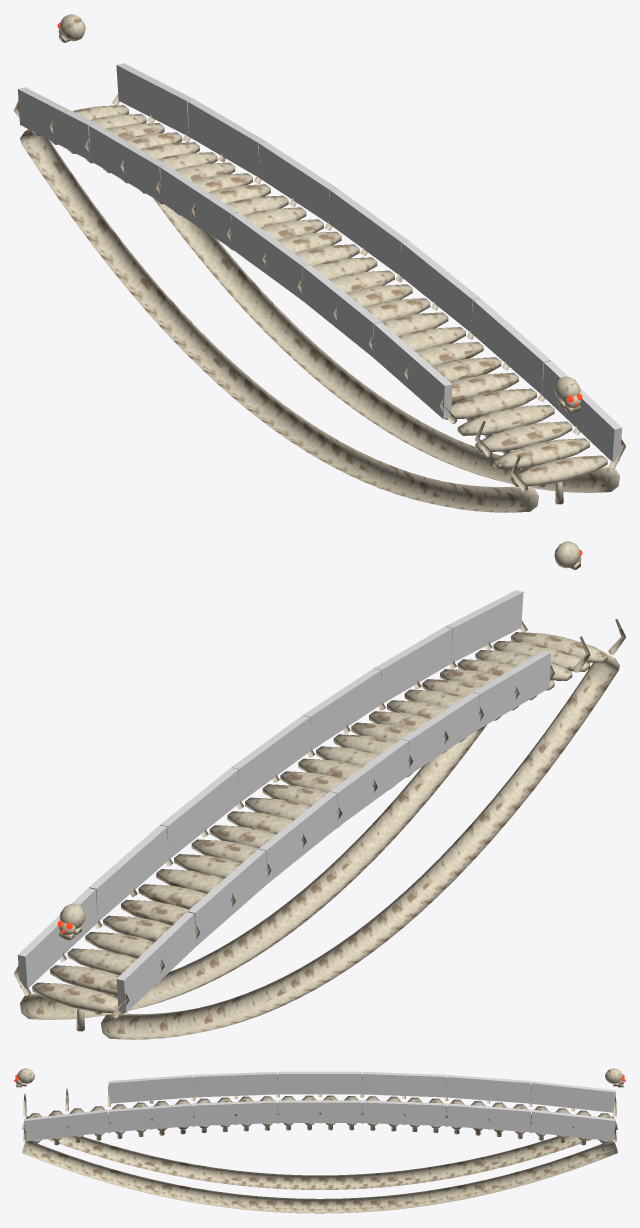
File: bone_bridge.glb
The picture shows the model from 3 angles, top to bottom: view 1: azimuth 30°, elevation 25°; view 2: azimuth 150°, elevation 25°; view 3: azimuth 270°, elevation 25°; orthographic projection. The views are drawn at different scales.
Parts seen in each view (by area): view 1: Bones, Rail-convcolonly.001, Rail-convcolonly.008, Rail-convcolonly.009, Rail-convcolonly.002, Rail-convcolonly.010, Rail-convcolonly.003, Rail-convcolonly.011, Rail-convcolonly.004, Rail-convcolonly.012, Rail-convcolonly.013, Rail-convcolonly.005 (+3 smaller); view 2: Bones, Rail-convcolonly.006, Rail-convcolonly.012, Rail-convcolonly.011, Rail-convcolonly.005, Rail-convcolonly.004, Rail-convcolonly.010, Rail-convcolonly.003, Rail-convcolonly.009, Rail-convcolonly.002, Rail-convcolonly.008, Rail-convcolonly.007 (+3 smaller); view 3: Bones, Rail-convcolonly.003, Rail-convcolonly.006, Rail-convcolonly.001, Rail-convcolonly.002, Rail-convcolonly.004, Rail-convcolonly.005, Rail-convcolonly.008, Rail-convcolonly.012, Rail-convcolonly.007, Rail-convcolonly.013, Rail-convcolonly.009 (+3 smaller).
Part boxes in pixels (box(x1,y1,x2,y2)): Bones: box(14, 93, 625, 512); Rail-convcolonly.001: box(372, 322, 452, 418); Rail-convcolonly.008: box(471, 298, 550, 394); Rail-convcolonly.009: box(400, 240, 479, 332); Rail-convcolonly.002: box(302, 264, 380, 356); Rail-convcolonly.010: box(330, 188, 408, 275); Rail-convcolonly.003: box(231, 212, 309, 299); Rail-convcolonly.011: box(258, 141, 336, 224); Rail-convcolonly.004: box(160, 165, 238, 248); Rail-convcolonly.012: box(187, 99, 265, 177); Rail-convcolonly.013: box(116, 63, 194, 136); Rail-convcolonly.005: box(89, 123, 167, 201); Bones: box(14, 619, 625, 1039); Rail-convcolonly.006: box(116, 912, 196, 1012); Rail-convcolonly.012: box(89, 825, 168, 921); Rail-convcolonly.011: box(160, 767, 239, 859); Rail-convcolonly.005: box(187, 849, 266, 945); Rail-convcolonly.004: box(259, 791, 337, 883); Rail-convcolonly.010: box(231, 715, 309, 803); Rail-convcolonly.003: box(330, 739, 408, 826); Rail-convcolonly.009: box(303, 668, 381, 751); Rail-convcolonly.002: box(401, 692, 479, 775); Rail-convcolonly.008: box(374, 626, 452, 704); Rail-convcolonly.007: box(445, 590, 523, 663); Bones: box(22, 1075, 617, 1213); Rail-convcolonly.003: box(278, 1071, 361, 1094); Rail-convcolonly.006: box(529, 1081, 615, 1112); Rail-convcolonly.001: box(108, 1075, 194, 1103); Rail-convcolonly.002: box(193, 1071, 278, 1097); Rail-convcolonly.004: box(361, 1071, 446, 1097); Rail-convcolonly.005: box(446, 1075, 531, 1103); Rail-convcolonly.008: box(108, 1103, 194, 1132); Rail-convcolonly.012: box(446, 1103, 531, 1132); Rail-convcolonly.007: box(24, 1109, 110, 1141); Rail-convcolonly.013: box(529, 1109, 615, 1141); Rail-convcolonly.009: box(193, 1100, 278, 1125).
Size of what is drawn, in the model's own units: 4.57 by 8.43 by 35.27.
2 materials, 1 textured.
